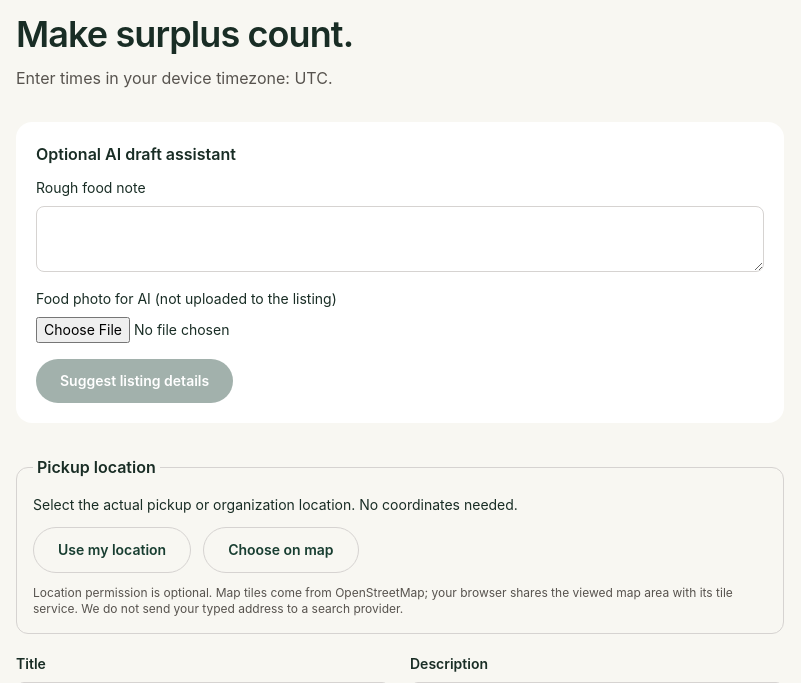
Test: uses manual AI fallback and requires food confirmation
Type "Bread" into the text box labelled "Rough food note" at (400, 239), box 36,206 -> 764,272
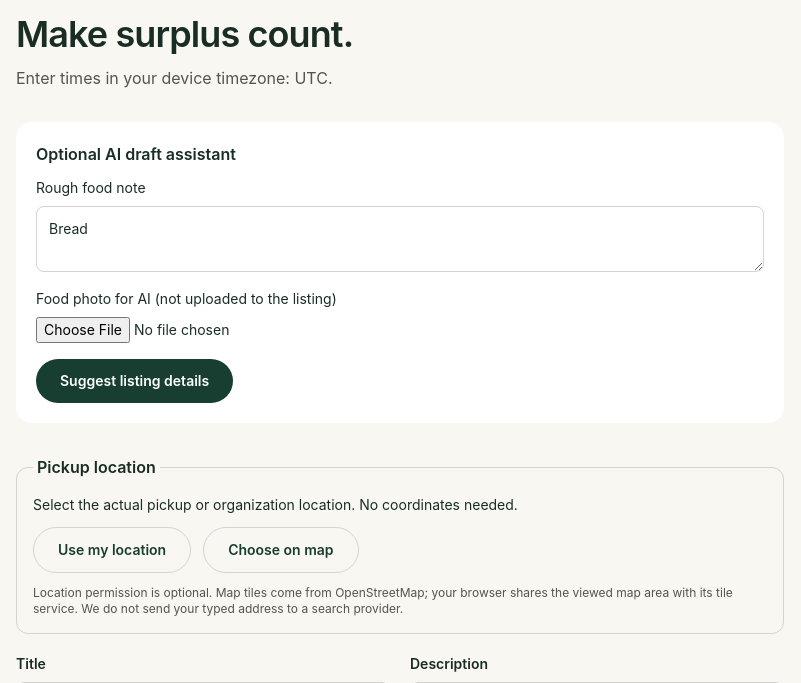
Click the button "Suggest listing details" at (135, 381), box 36,359 -> 233,403
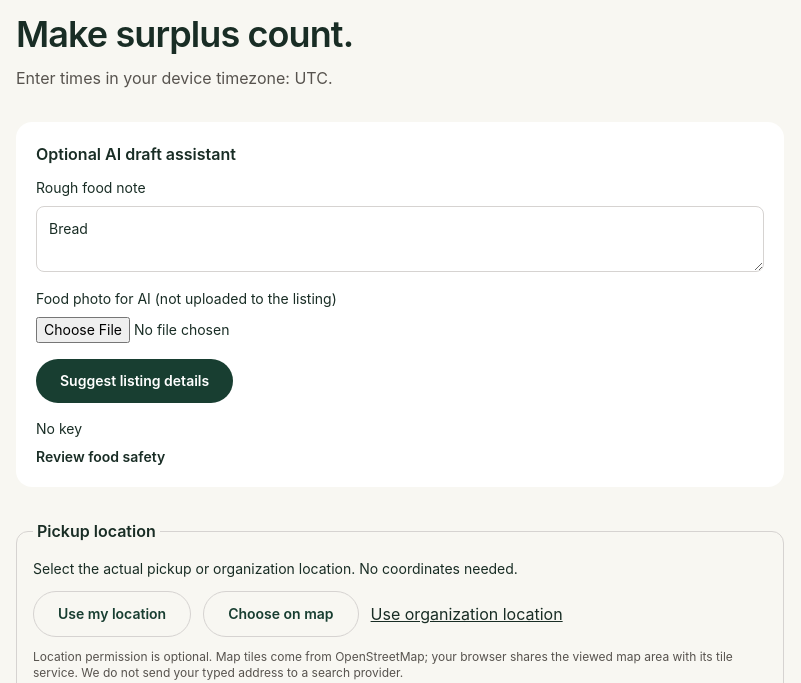
Check: the text "No key" is shown, box 36,420 -> 82,437
Click the button "Use organization location" at (467, 614), box 371,591 -> 563,637
(page scrolled)
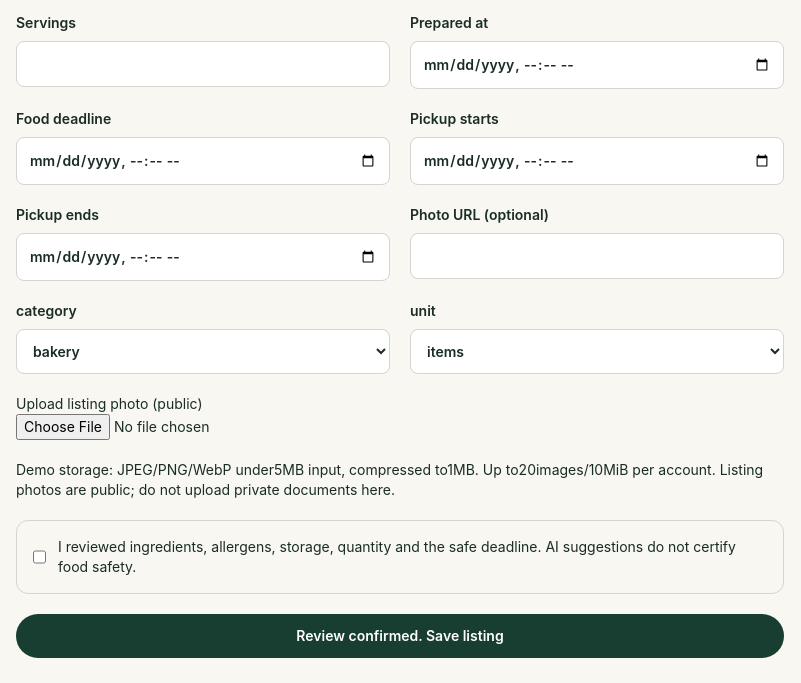
Click the button "Review confirmed. Save listing" at (400, 636), box 16,614 -> 784,658
(page scrolled)
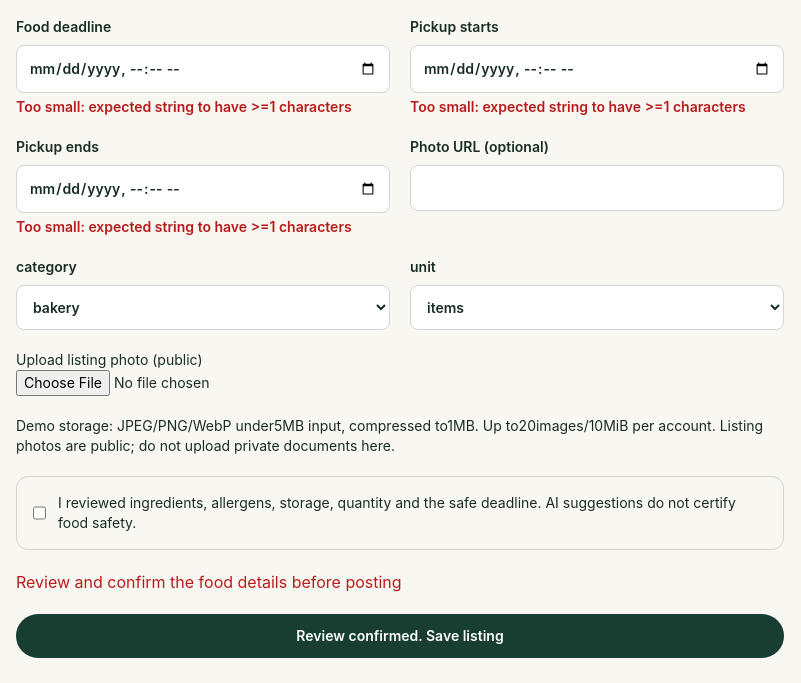
Check: the text "Review and confirm the food details before posting" is shown, box 16,572 -> 402,592
